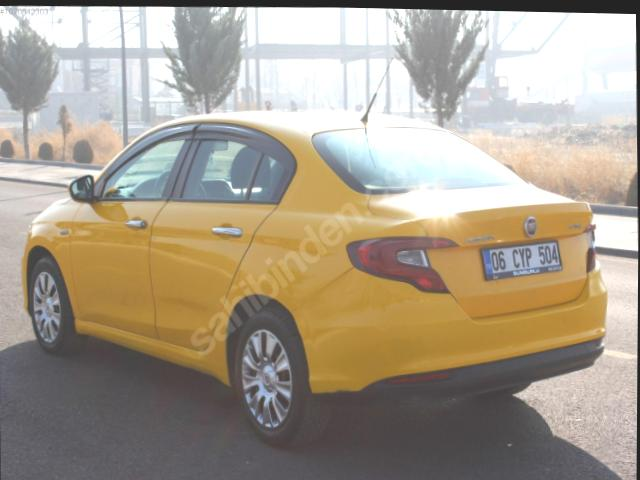plaka: (482, 240, 562, 280)
